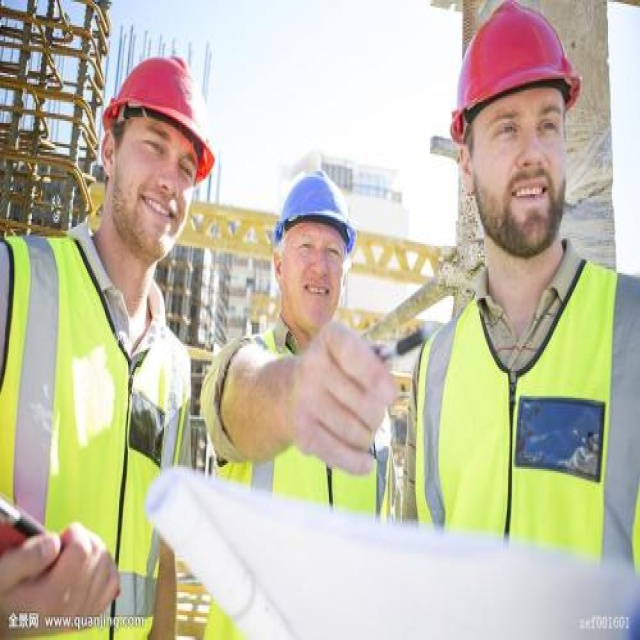Helmet: (431, 1, 605, 293), (75, 19, 230, 284), (246, 136, 391, 365)
Reflective vest: (1, 234, 192, 640), (409, 262, 640, 572)
